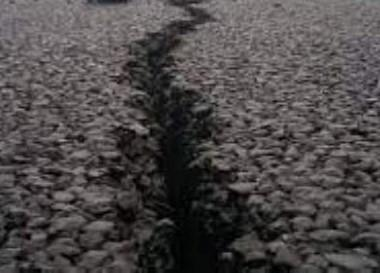crack: (113, 0, 274, 273)
